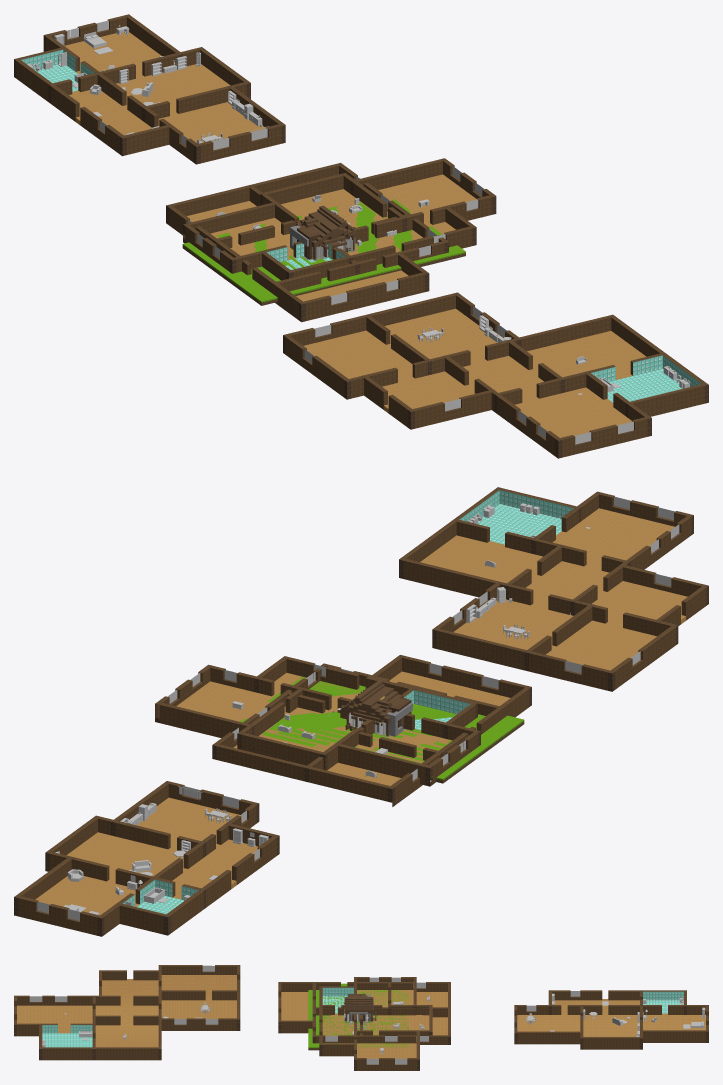
Rendered from House_Whith_Interier.fbx.
3 renders of one model, top to bottom at view 1: azimuth 30°, elevation 25°; view 2: azimuth 150°, elevation 25°; view 3: azimuth 270°, elevation 25°, orthographic. The views are drawn at different scales.
Parts seen in each view (by area): view 1: House_3, House_1, House_1.001, House_2, Ground, Bonus_House; view 2: House_3, House_1, House_1.001, House_2, Ground, Kuznica, Bonus_House; view 3: House_3, House_1, House_1.001, House_2, Ground, Kuznica, Bonus_House.
Part boxes in pixels (x1,y1,x2,y2): House_3: (283, 292, 708, 458); House_1: (14, 14, 285, 164); House_1.001: (183, 158, 496, 280); House_2: (166, 163, 448, 322); Ground: (182, 199, 465, 305); Bonus_House: (296, 212, 356, 260); House_3: (399, 487, 708, 691); House_1: (14, 781, 279, 936); House_1.001: (155, 656, 480, 786); House_2: (212, 655, 531, 806); Ground: (240, 676, 524, 783); Kuznica: (344, 680, 412, 736); Bonus_House: (345, 686, 411, 737); House_3: (14, 965, 240, 1060); House_1: (514, 990, 708, 1049); House_1.001: (319, 977, 432, 1070); House_2: (278, 982, 450, 1044); Ground: (308, 983, 408, 1050); Kuznica: (345, 994, 373, 1019); Bonus_House: (344, 997, 372, 1022).
Bounding box in the file's own units: 14200 × 1806 × 44239.
